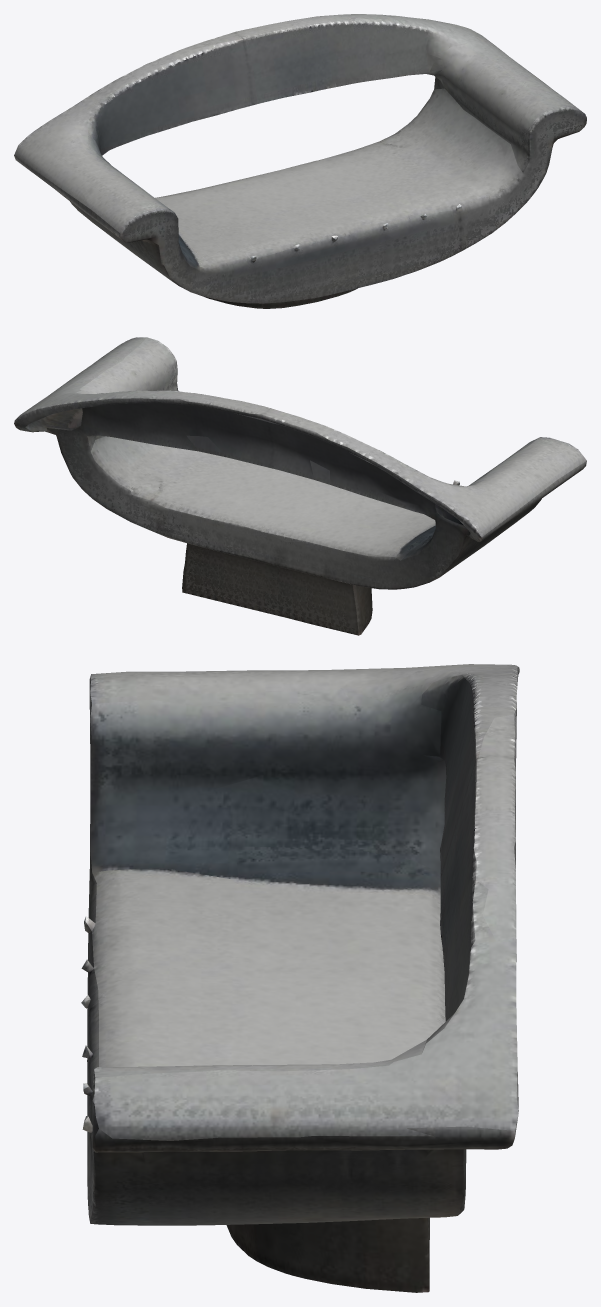
The picture shows the model from 3 angles, top to bottom: view 1: azimuth 30°, elevation 25°; view 2: azimuth 150°, elevation 25°; view 3: azimuth 270°, elevation 25°; orthographic projection. The views are drawn at different scales.
Visible parts, largest first — view 1: bench-concrete-curve; view 2: bench-concrete-curve; view 3: bench-concrete-curve.
Part boxes in pixels (left/top/right/bottom): bench-concrete-curve: left=14, top=14, right=586, bottom=308; bench-concrete-curve: left=14, top=337, right=586, bottom=635; bench-concrete-curve: left=81, top=664, right=519, bottom=1292.
Size of the model in its own units: 1.12 by 0.5004 by 0.4534.
1 material, 1 textured.
